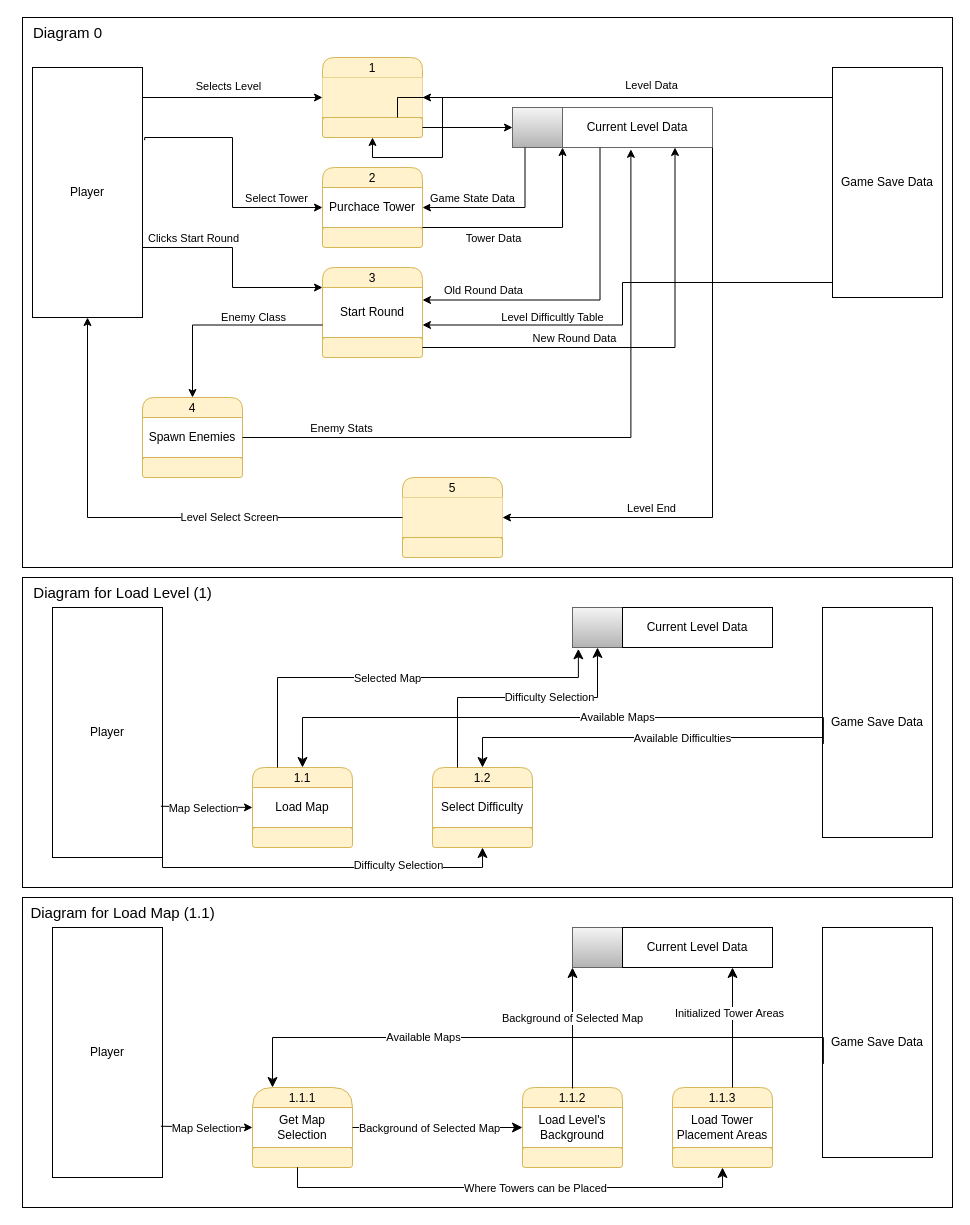
This 970x1225 diagram has some shape labels left out. The centre of each missing label's shape, as x and y in pixels:
"Level Load" belongs at point (372, 97).
"Unload Level" belongs at point (452, 517).
